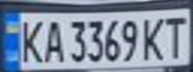3: (63, 17, 87, 63), (84, 17, 106, 63)
6: (103, 16, 124, 63)
9: (118, 16, 142, 62)
A: (39, 16, 66, 64)
K: (15, 16, 45, 65), (139, 14, 169, 61)
T: (160, 12, 190, 60)
